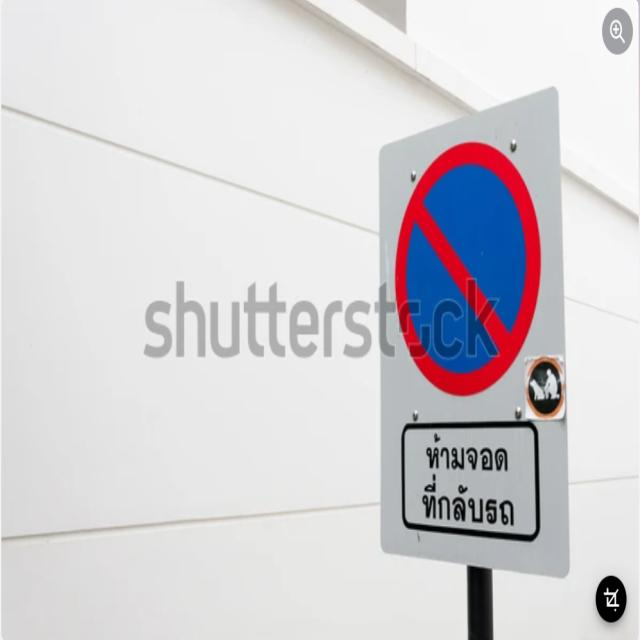forb_stopping: (396, 139, 542, 396)
